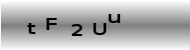2: (70, 23, 82, 36)
F: (45, 17, 57, 30)
U: (91, 22, 107, 35)
t: (25, 22, 36, 34)
u: (106, 12, 121, 23)
